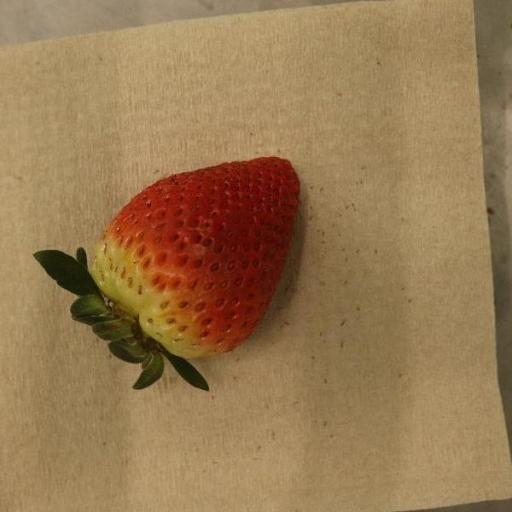Strawberry: (31, 157, 300, 392)
